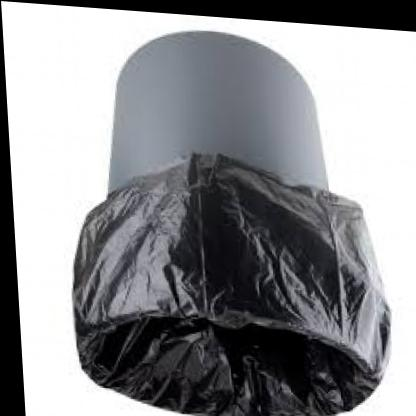Plastic: (48, 135, 404, 416)
